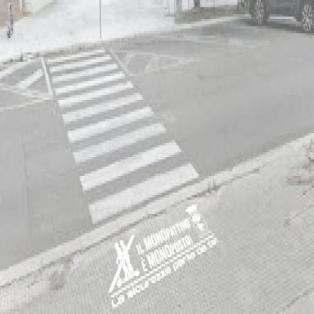Paso de Cebra: (68, 117, 184, 195)
